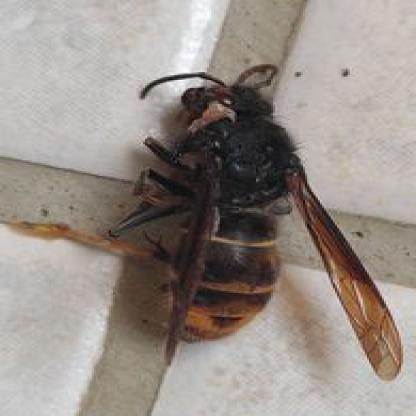Asian Hornet: (89, 52, 357, 352)
